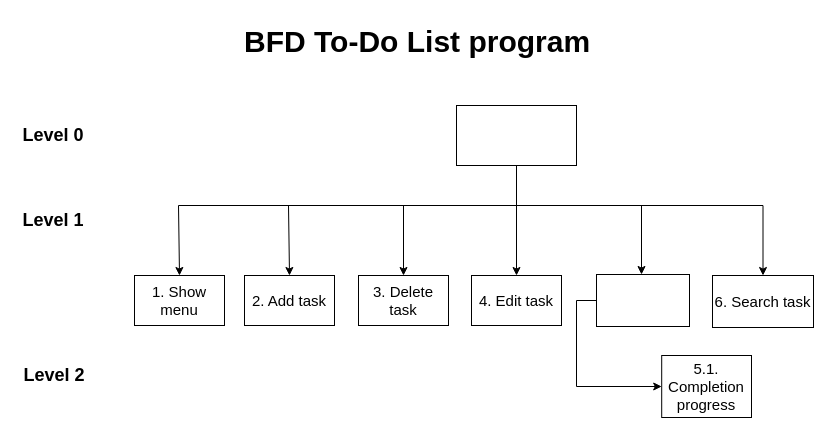
Image size: 831x435. Some labels were removed from this diagram. Here are the shapes that lost their labels. From the top down, the box of each, then its label:
(456, 104, 576, 166): 0. To-do List program
(596, 274, 690, 326): 5. Sort list of tasks
